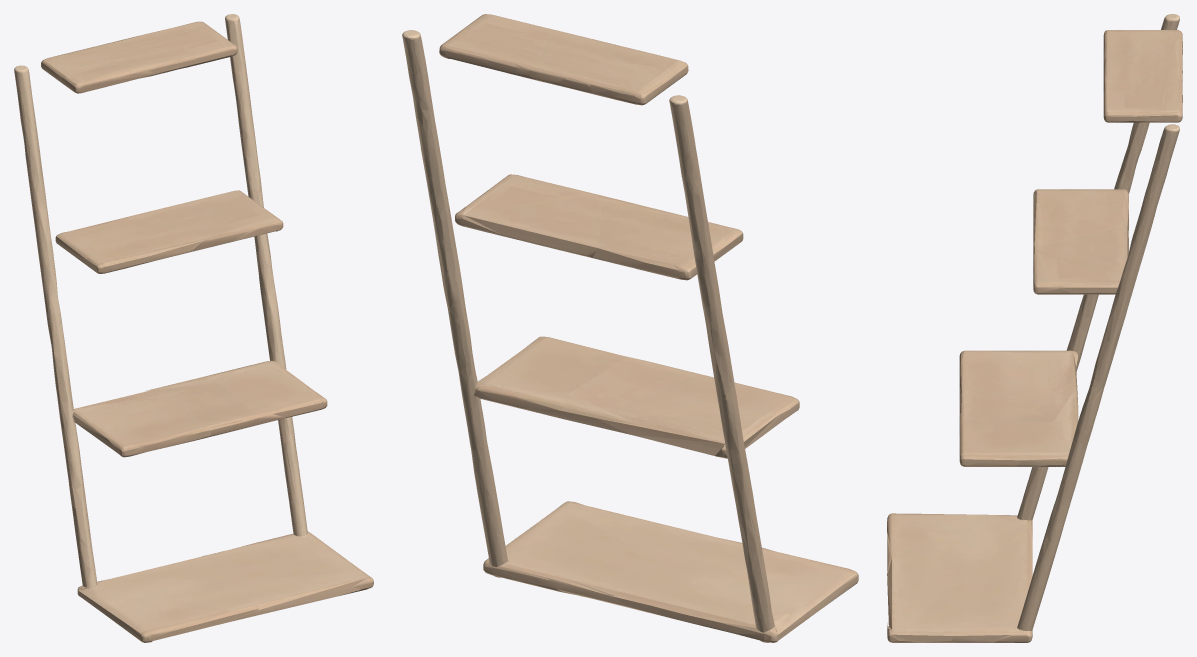
The model's file is shelf_ladder_4tier.glb.
3 renders of one model, left to right at view 1: azimuth 30°, elevation 25°; view 2: azimuth 150°, elevation 25°; view 3: azimuth 270°, elevation 25°, orthographic. The views are drawn at different scales.
Size of the model in its own units: 0.9642 by 1.9 by 0.9916.
Materials: 1 (1 with a texture image).
